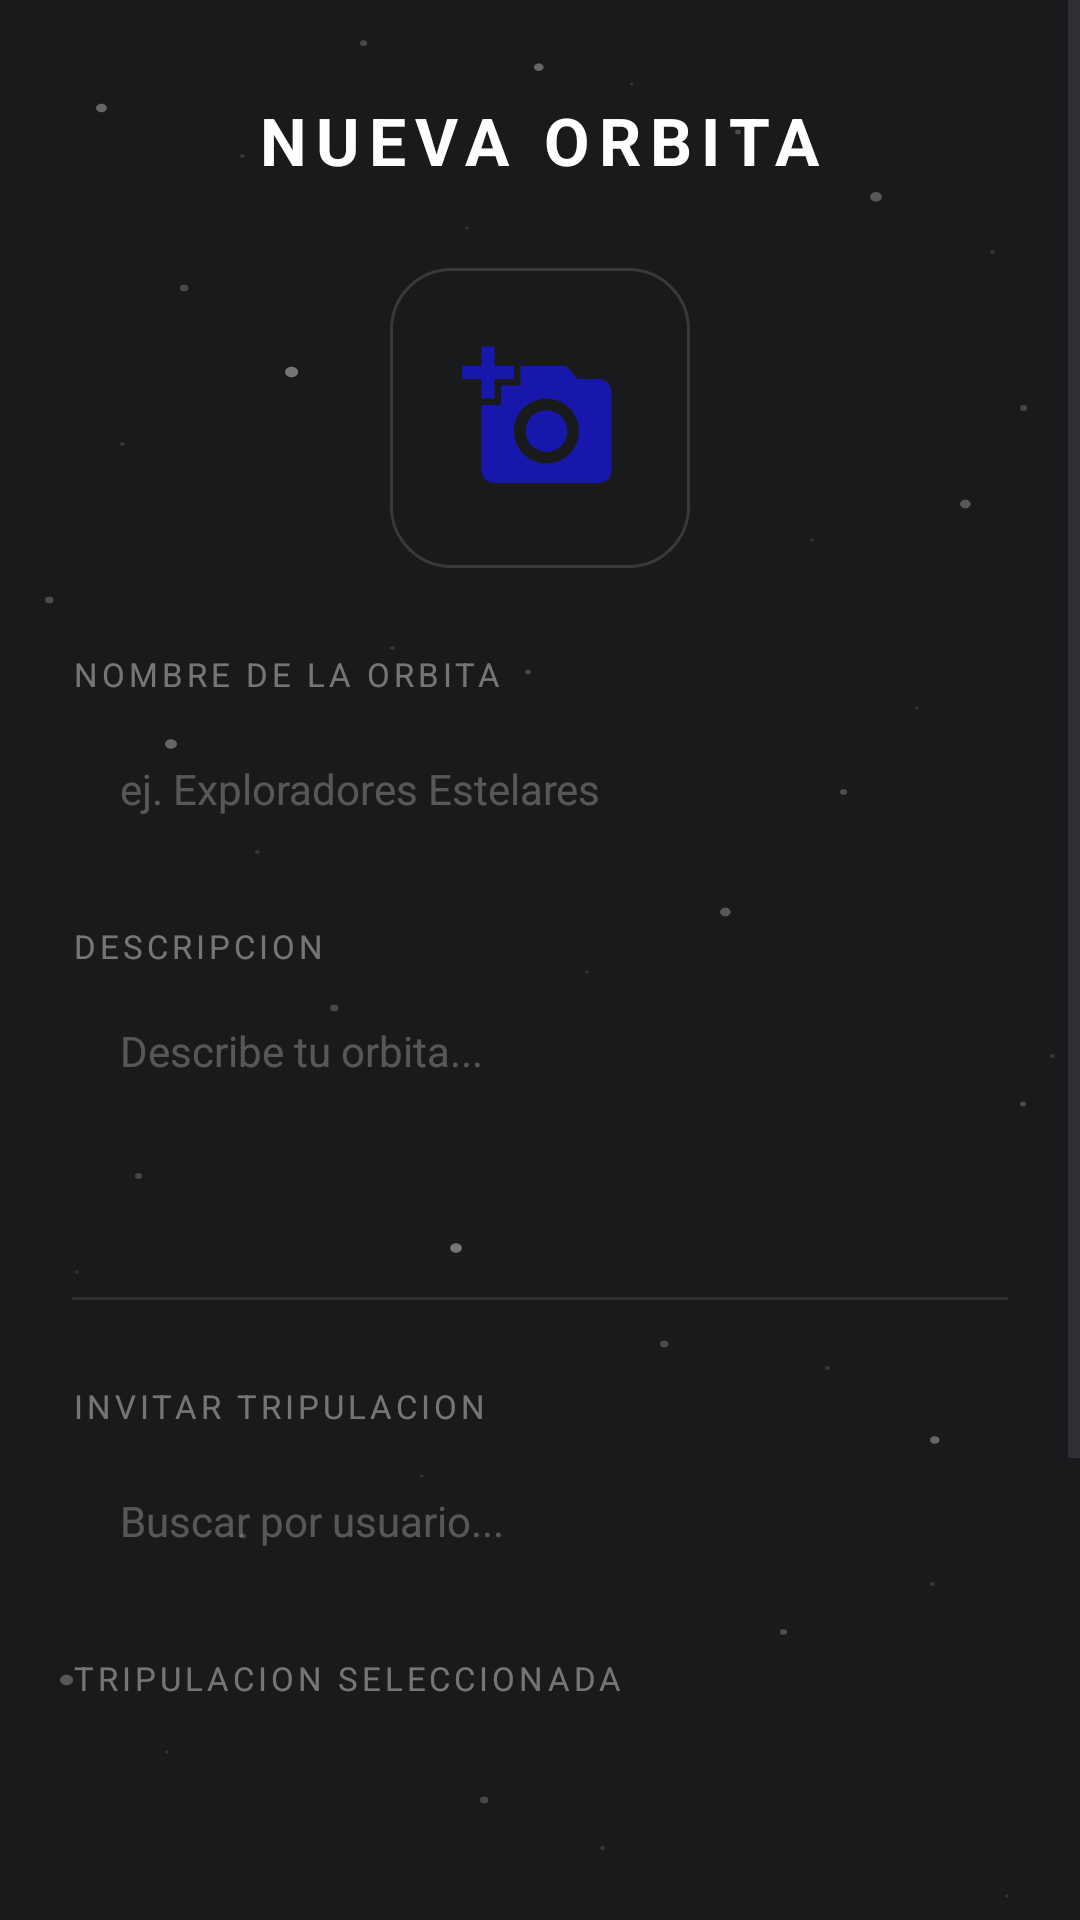

Icon bounding boxes for this 1080x1920 phone screenshot, format detection(x1, y1, x2, y2):
Imagen del grupo: detection(390, 268, 690, 568)
